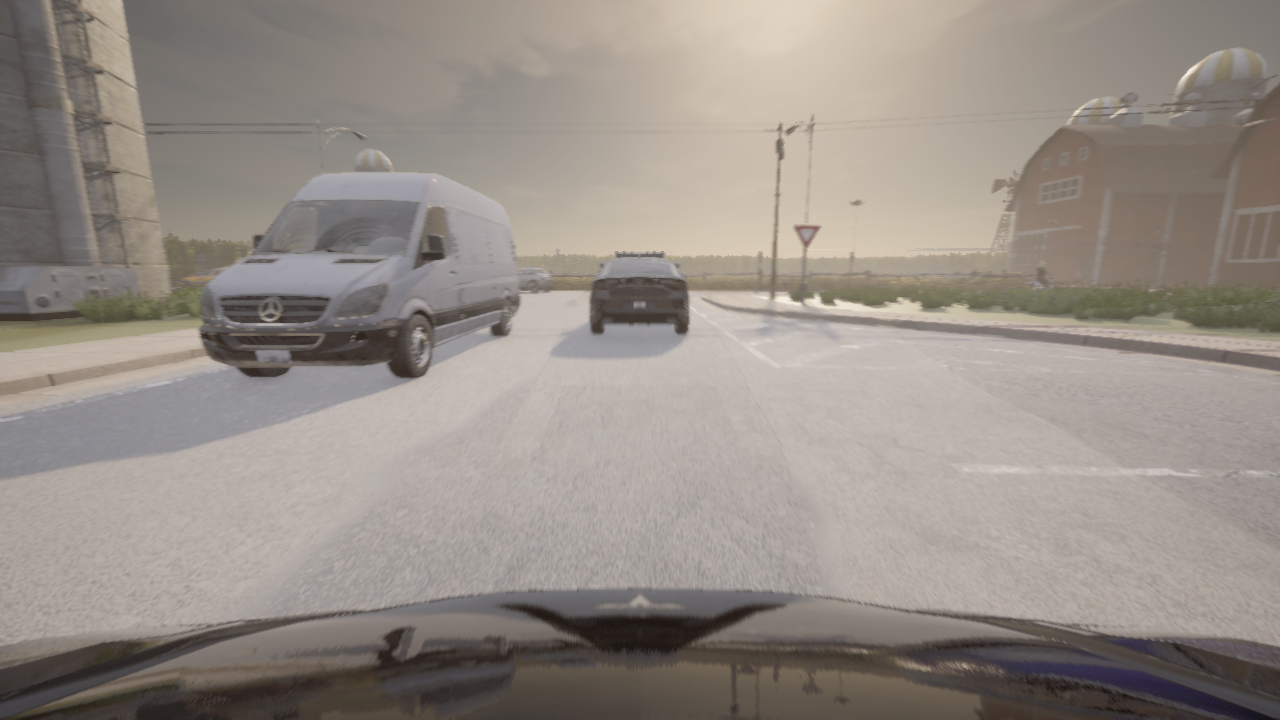cyclist: (0, 588, 1279, 719), (198, 173, 520, 377), (590, 252, 689, 333), (177, 266, 228, 286), (518, 268, 553, 292), (1029, 274, 1060, 289)
